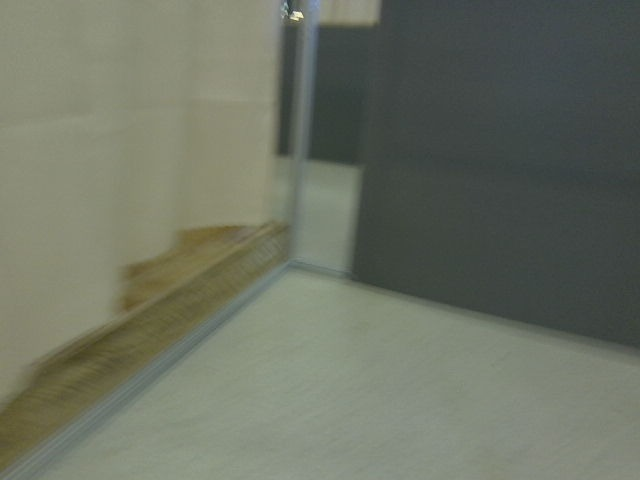curtain: (0, 0, 294, 274)
